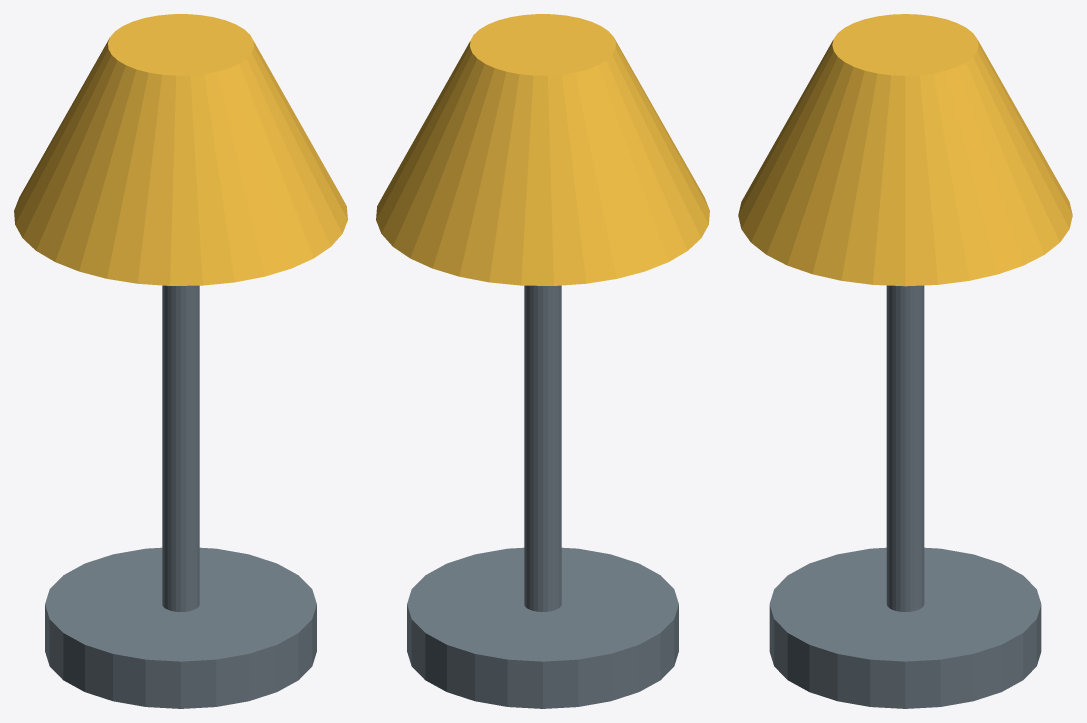
File: Lamp.glb
3 renders of one model, left to right at view 1: azimuth 30°, elevation 25°; view 2: azimuth 150°, elevation 25°; view 3: azimuth 270°, elevation 25°, orthographic.
Parts seen in each view (by area): view 1: Cone, Base, Stem; view 2: Cone, Base, Stem; view 3: Cone, Base, Stem.
Part boxes in pixels (<box>): Cone: <box>14,14,347,285</box>; Base: <box>45,547,316,708</box>; Stem: <box>162,285,199,611</box>; Cone: <box>376,14,709,285</box>; Base: <box>407,547,678,708</box>; Stem: <box>524,285,561,611</box>; Cone: <box>738,14,1072,286</box>; Base: <box>769,547,1041,708</box>; Stem: <box>886,285,924,611</box>.
Bounding box in the file's own units: 0.32 × 0.64 × 0.32.
